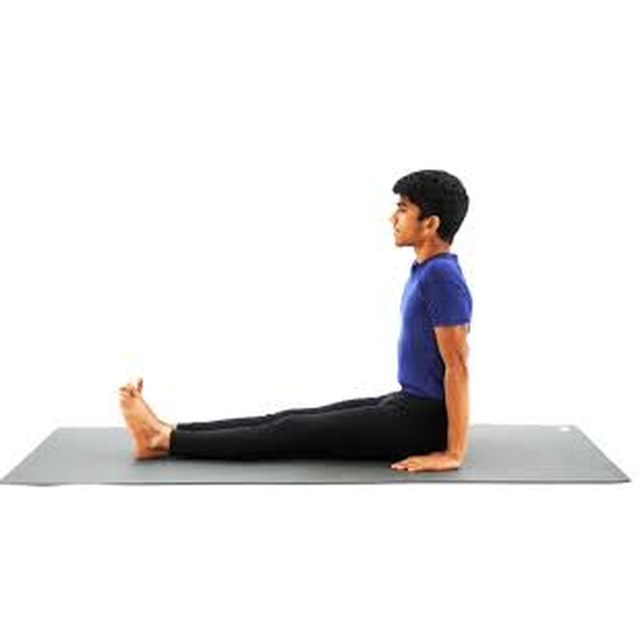Staff_Pose: (120, 170, 473, 476)
